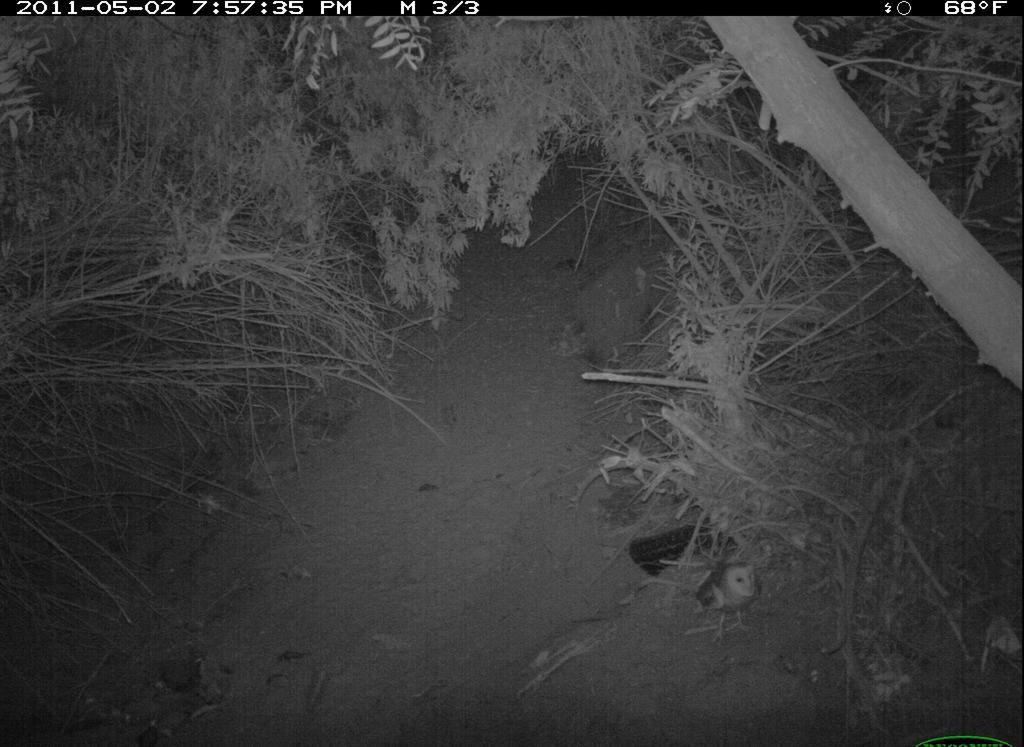bird: (694, 551, 771, 635)
